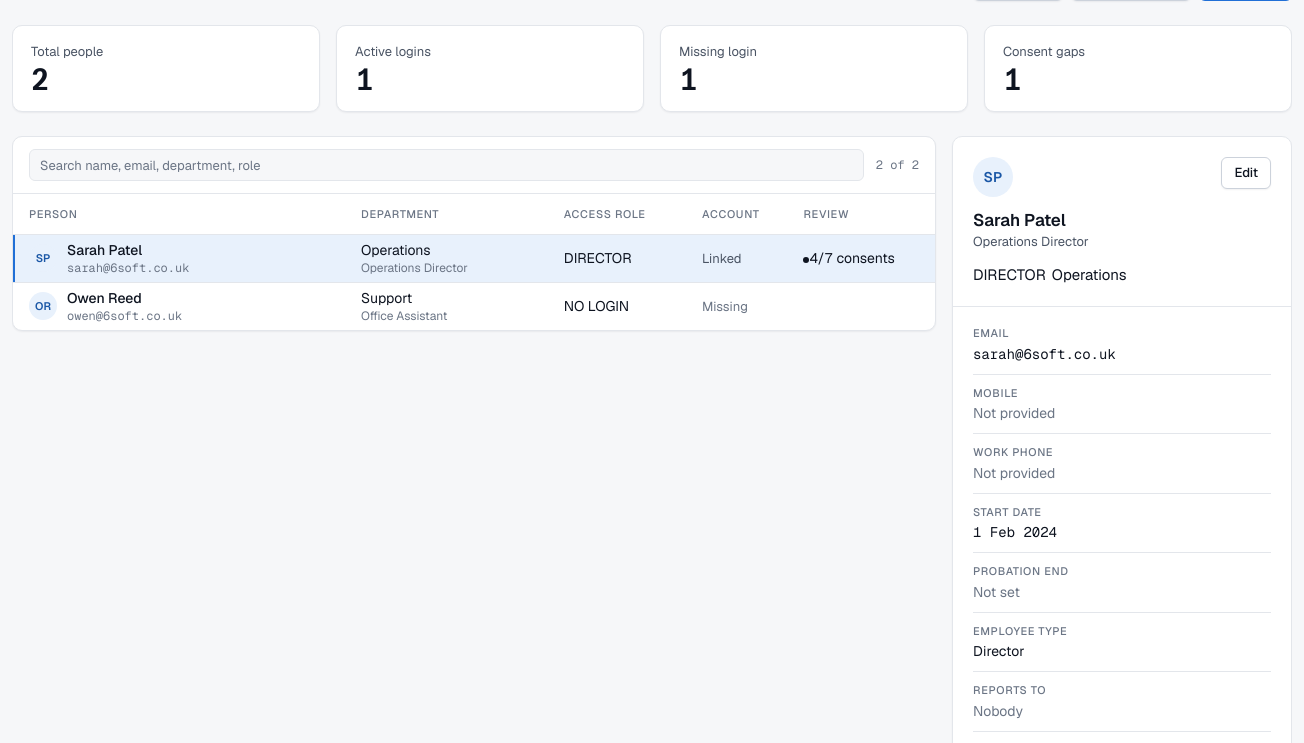
Unified user and employee management › fills the detail panel from the selected row
This screenshot has width=1304, height=743.
Expected: the text "sarah@6soft.co.uk" below "Email" is shown, [973, 345, 1116, 363]
Expected: the text "1 Feb 2024" is shown, [973, 524, 1057, 542]
Click the row "Owen Reed": (474, 306) [13, 282, 935, 330]
(page scrolled)
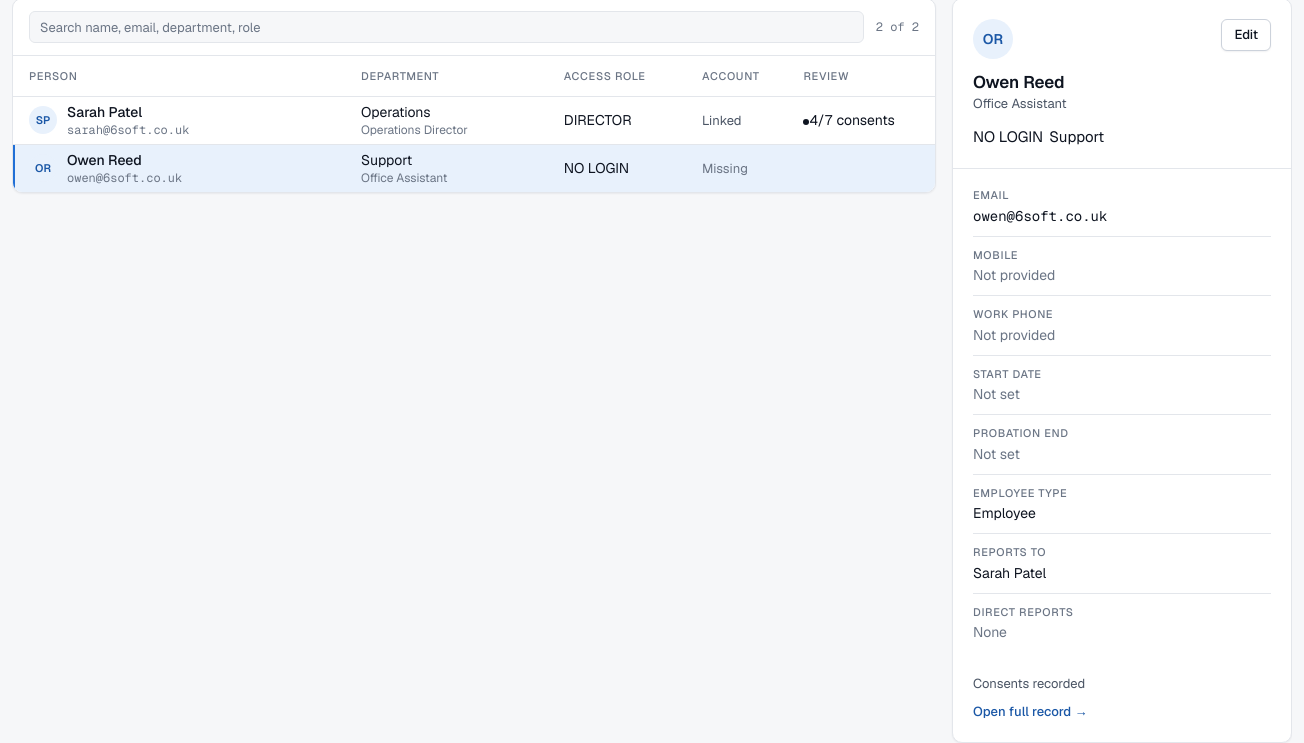
Expected: the text "owen@6soft.co.uk" below "Email" is shown, [973, 207, 1107, 225]
Expected: the text "Sarah Patel" below "Reports to" is shown, [973, 564, 1046, 582]
